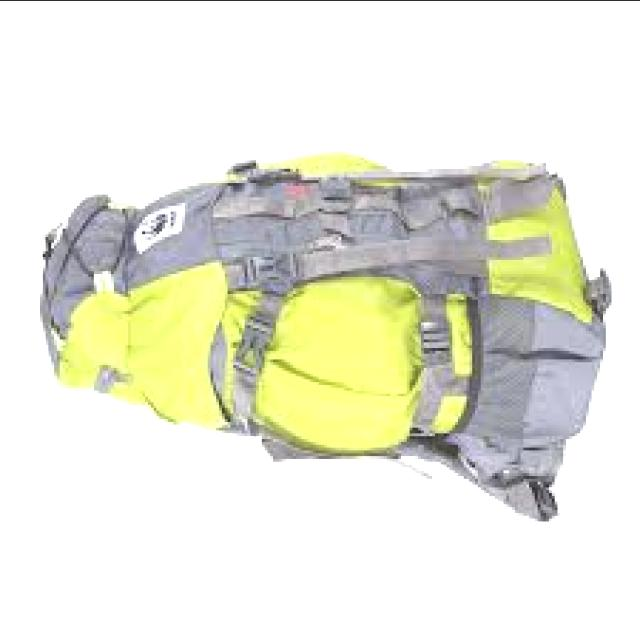backpack: (38, 155, 610, 525)
